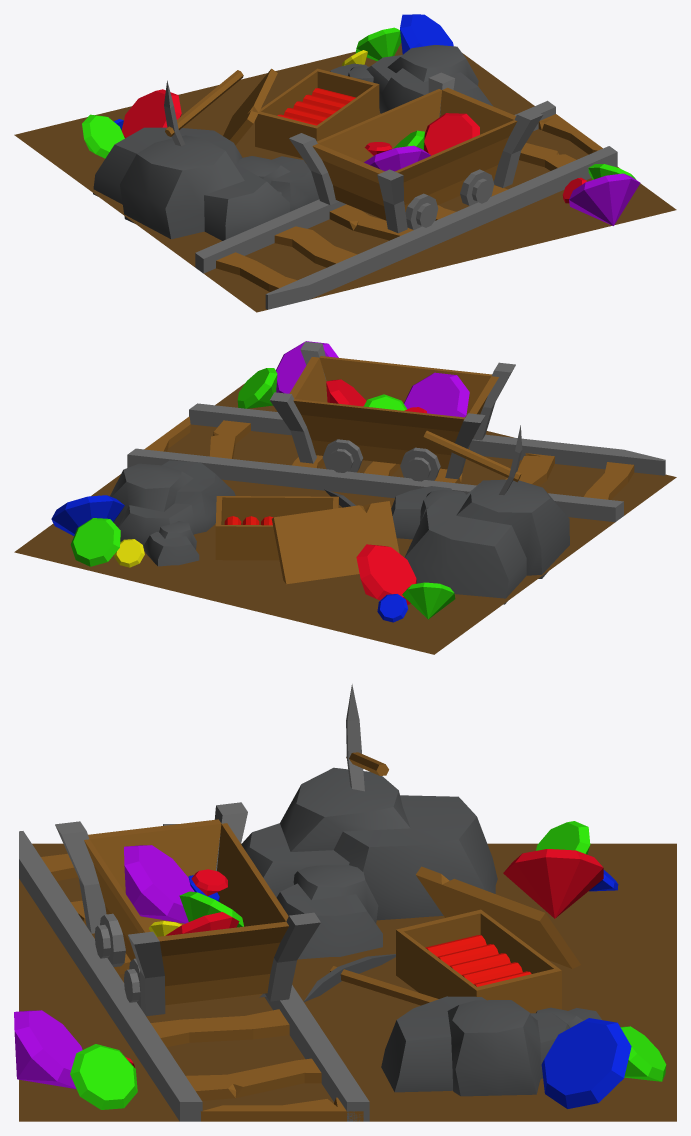
The model's file is CollectionZone (1).fbx.
3 views of the same model, one above another, from view 1: azimuth 30°, elevation 25°; view 2: azimuth 150°, elevation 25°; view 3: azimuth 270°, elevation 25° (orthographic). The views are drawn at different scales.
Visible parts, largest first — view 1: CollectionZone, Cart, Rails, Rock.001, Cube, Rock.002, Rock.004, Gem.004, Gem.013, Gem.001, Cylinder, Pickaxe.002 (+5 smaller); view 2: CollectionZone, Cart, Rails, Rock.001, Cube, Rock.002, Gem.001, Gem.010, Rock.003, Gem.008, Rock.004, Gem.007 (+8 smaller); view 3: CollectionZone, Cart, Rails, Rock.001, Rock.002, Cube, Rock.004, Gem.007, Gem.001, Gem.004, Gem.010, Gem.005 (+8 smaller).
Boxes of the visible parts, x1,y1,x2,y2 form: CollectionZone: (14,43,676,312); Cart: (289,72,542,233); Rails: (195,100,617,309); Rock.001: (93,127,289,240); Cube: (223,68,379,158); Rock.002: (366,45,492,113); Rock.004: (237,156,319,211); Gem.004: (569,173,640,225); Gem.013: (424,113,479,155); Gem.001: (122,89,181,138); Cylinder: (277,88,355,125); Pickaxe.002: (164,70,243,146); CollectionZone: (14,383,676,654); Cart: (270,341,515,481); Rails: (127,403,665,522); Rock.001: (404,479,569,604); Cube: (215,496,399,584); Rock.002: (110,460,235,548); Gem.001: (356,544,416,604); Gem.010: (403,372,469,417); Rock.003: (143,521,199,566); Gem.008: (70,518,120,566); Rock.004: (391,486,466,539); Gem.007: (51,495,124,535); CollectionZone: (19,843,676,1121); Cart: (55,802,320,1016); Rails: (19,824,369,1121); Rock.001: (241,767,497,920); Rock.002: (381,996,569,1096); Cube: (396,866,580,1013); Rock.004: (276,865,382,959); Gem.007: (541,1018,631,1108); Gem.001: (503,849,603,918); Gem.004: (14,1010,82,1088); Gem.010: (124,845,194,923); Gem.005: (70,1044,137,1109).
Bounding box in the file's own units: 6.01 × 6.05 × 1.92.
